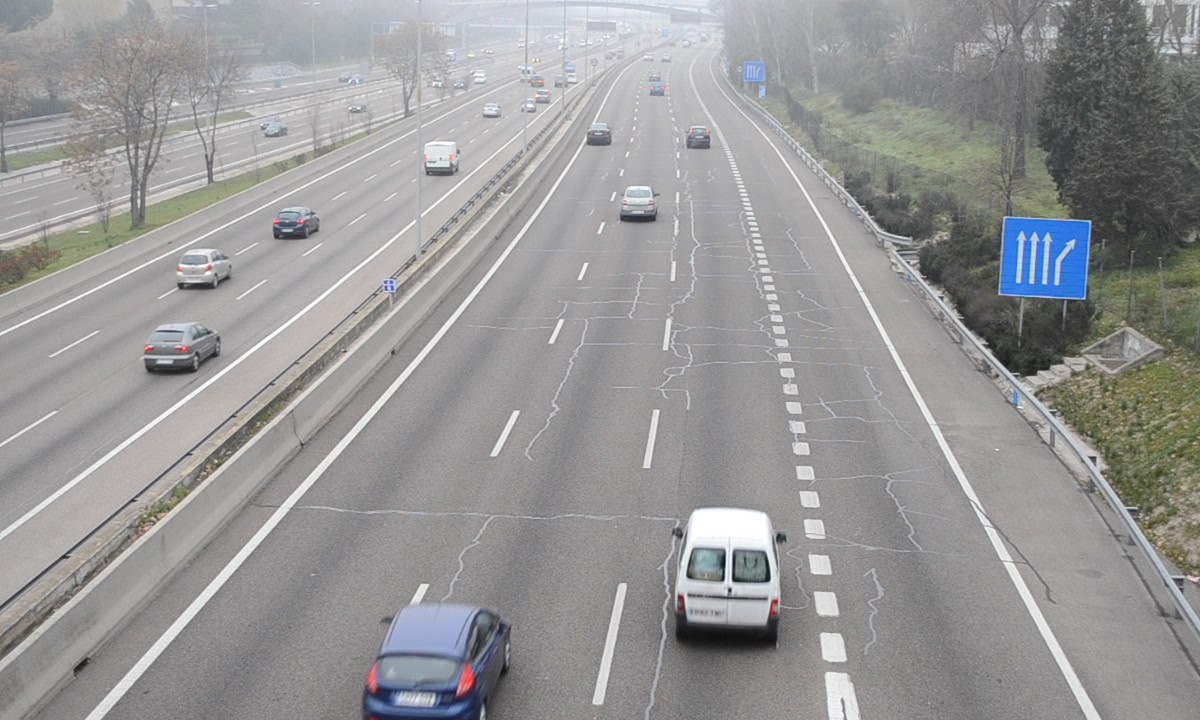car: (365, 607, 509, 720), (620, 185, 656, 221), (685, 124, 712, 150), (586, 122, 613, 148)
van: (674, 508, 779, 640)
